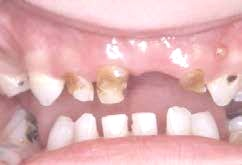Caries: (96, 67, 131, 99), (23, 111, 42, 147), (186, 69, 207, 100), (62, 69, 80, 99), (218, 71, 242, 86)
